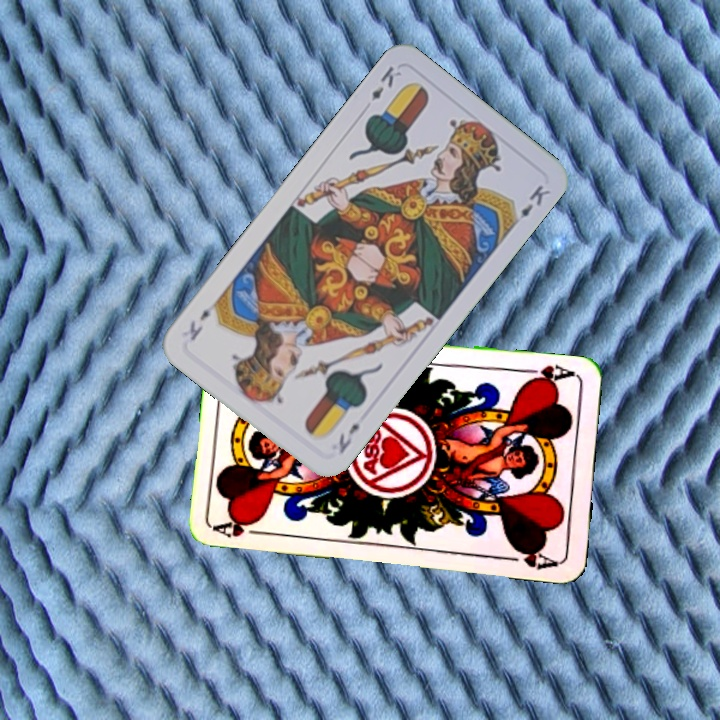EK: (367, 62, 404, 103), (334, 419, 363, 457)
HA: (520, 361, 580, 388), (212, 513, 271, 540)
